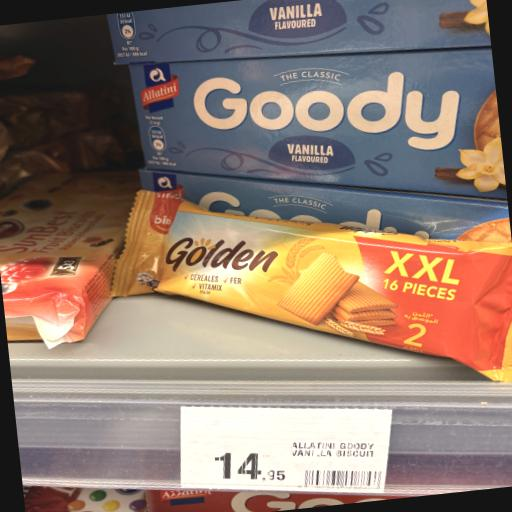golden: (60, 117, 512, 430)
